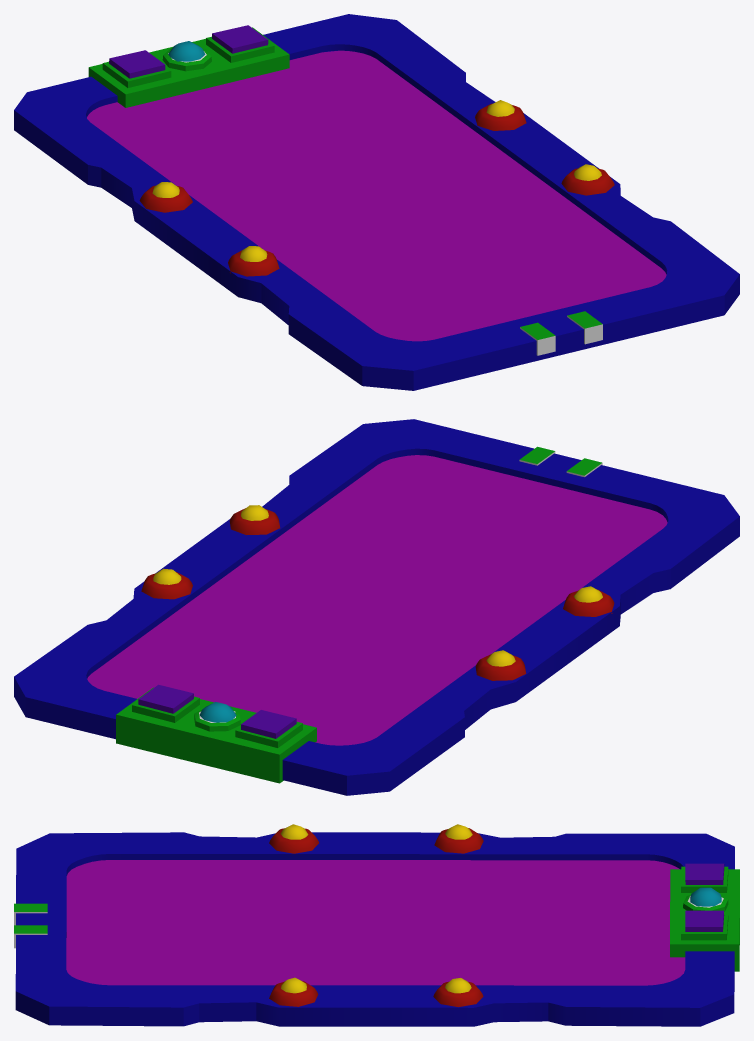
File: Planhet.fbx
The picture shows the model from 3 angles, top to bottom: view 1: azimuth 30°, elevation 25°; view 2: azimuth 150°, elevation 25°; view 3: azimuth 270°, elevation 25°; orthographic projection. The views are drawn at different scales.
Parts seen in each view (by area): view 1: планшет; view 2: планшет; view 3: планшет.
Boxes of the visible parts, bbox=[...] form: планшет: bbox=[14, 14, 739, 390]; планшет: bbox=[14, 419, 739, 795]; планшет: bbox=[14, 824, 739, 1026].
Bounding box in the file's own units: 257 × 29.2 × 448.
